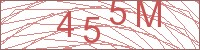4: (55, 10, 76, 39)
5: (108, 1, 130, 27), (83, 16, 101, 43)
M: (135, 1, 163, 29)
